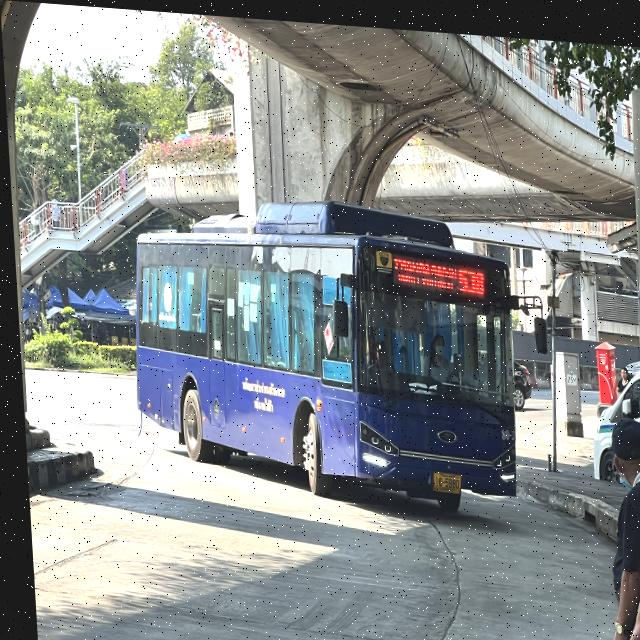Bus-Line-Number: (453, 256, 485, 293)
Destination-Sign-Normal: (389, 247, 456, 290)
TSB-Bus: (122, 187, 523, 513)
